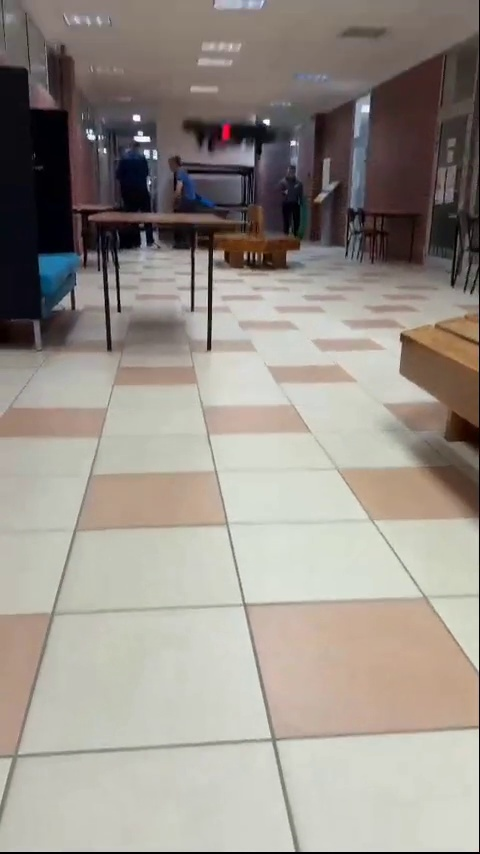drone: (182, 114, 271, 156)
no vest: (117, 135, 159, 250), (164, 156, 218, 216), (279, 163, 312, 240)
